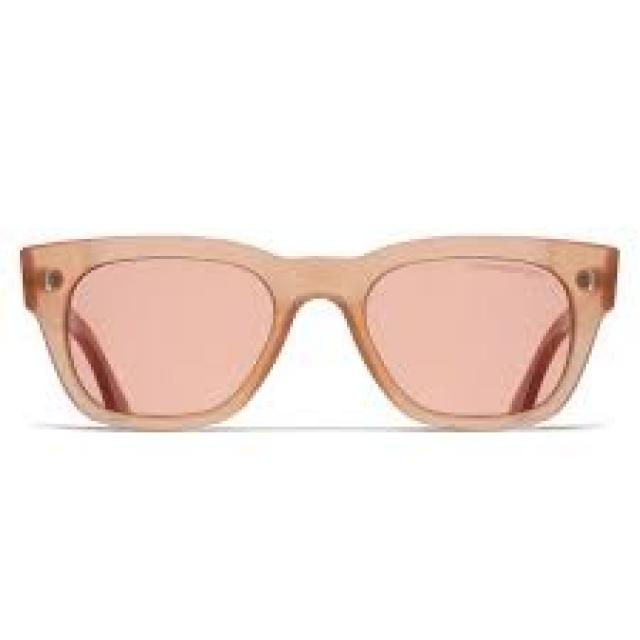suspicious-objects: (20, 215, 617, 442)
